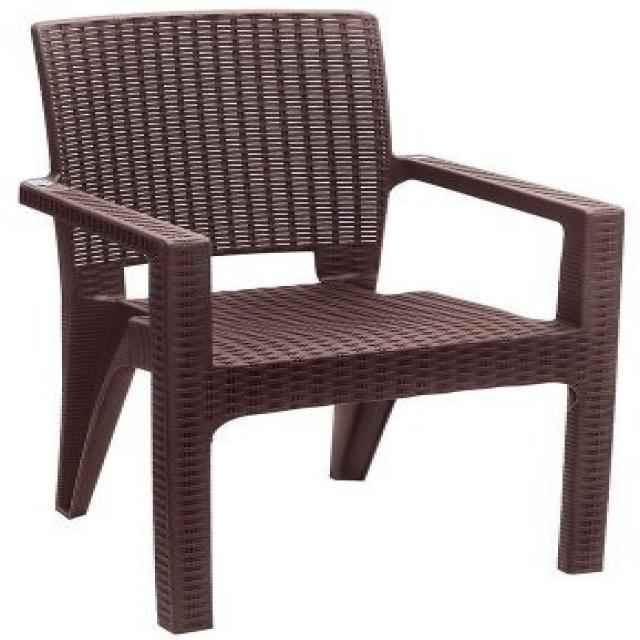Chair: (18, 11, 622, 640)
